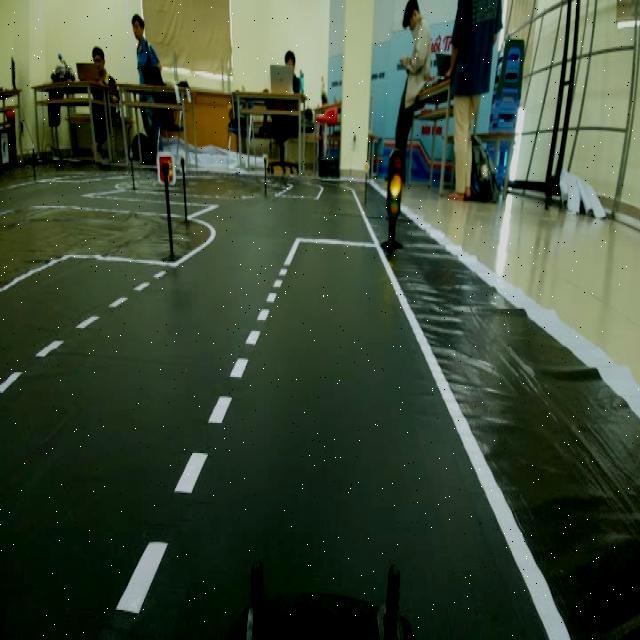trafficlight: (377, 140, 412, 273)
